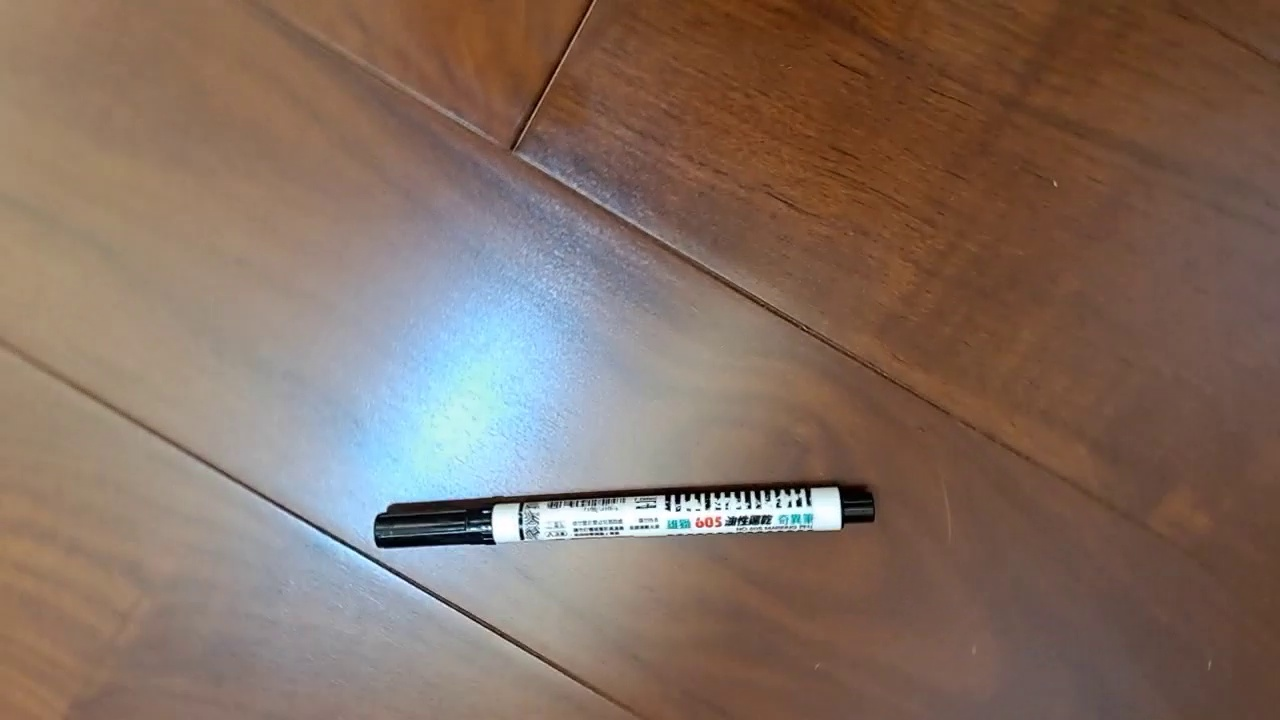pen: (373, 480, 876, 549)
